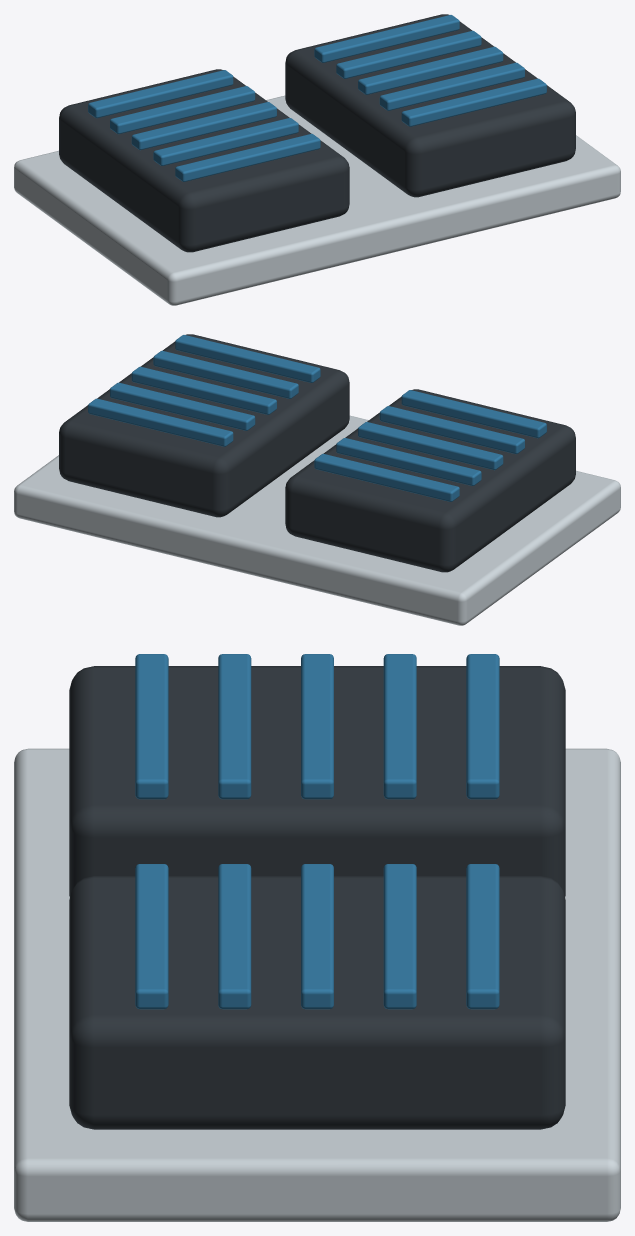
Rendered from curling-club-and-ice-maintenance-hack-block-62d818f3__31263.glb.
3 renders of one model, top to bottom at view 1: azimuth 30°, elevation 25°; view 2: azimuth 150°, elevation 25°; view 3: azimuth 270°, elevation 25°, orthographic. The views are drawn at different scales.
Visible parts, largest first — view 1: hack-block; view 2: hack-block; view 3: hack-block.
Part boxes in pixels (<box>): hack-block: <box>14,14,620,305</box>; hack-block: <box>14,334,620,625</box>; hack-block: <box>14,654,620,1221</box>.
Size of the model in its own units: 0.36 by 0.078 by 0.22.
